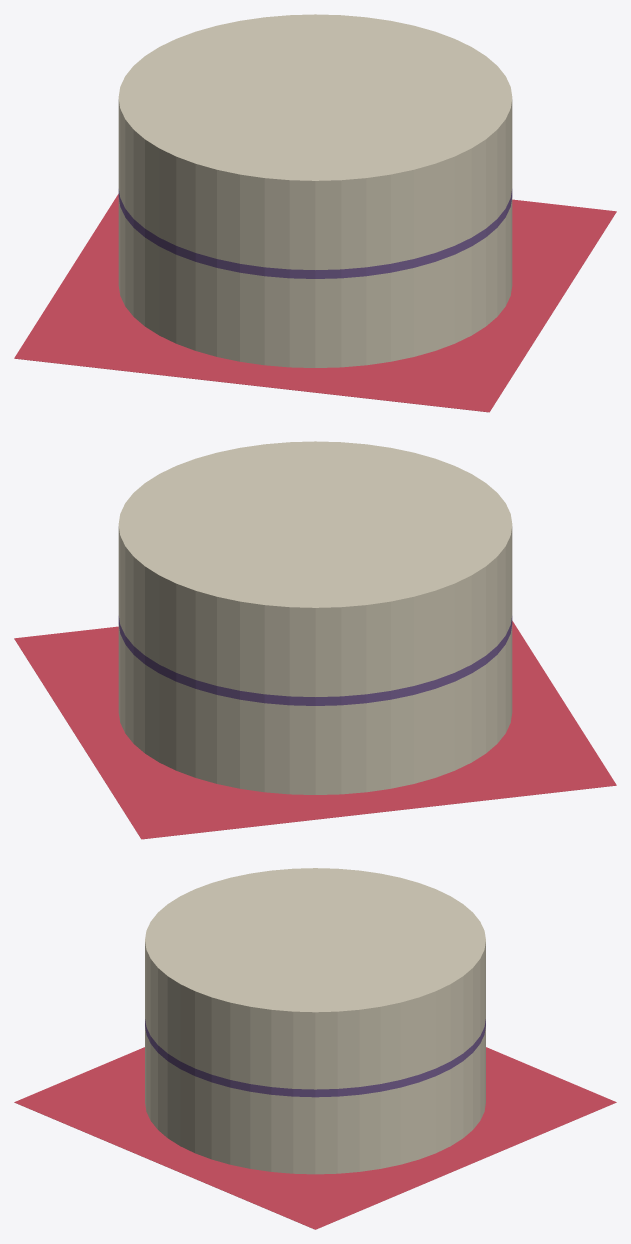
The model's file is VUV.glb.
3 renders of one model, top to bottom at view 1: azimuth 30°, elevation 25°; view 2: azimuth 150°, elevation 25°; view 3: azimuth 270°, elevation 25°, orthographic. The views are drawn at different scales.
Visible parts, largest first — view 1: Mesh_Mesh_head_geo.001_lambert2SG.001; view 2: Mesh_Mesh_head_geo.001_lambert2SG.001; view 3: Mesh_Mesh_head_geo.001_lambert2SG.001.
Part boxes in pixels (x1,y1,x2,y2): Mesh_Mesh_head_geo.001_lambert2SG.001: [14, 14, 616, 412]; Mesh_Mesh_head_geo.001_lambert2SG.001: [14, 441, 616, 839]; Mesh_Mesh_head_geo.001_lambert2SG.001: [14, 868, 616, 1229].
Size of the model in its own units: 0.0354 by 0.0105 by 0.0354.
